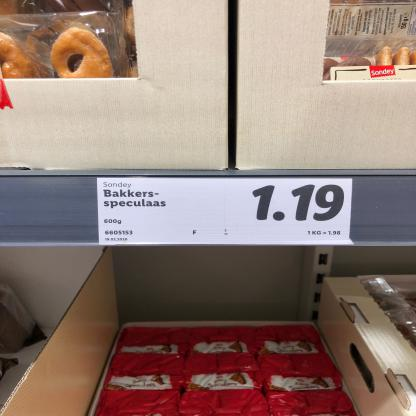prtg: (98, 179, 354, 247)
